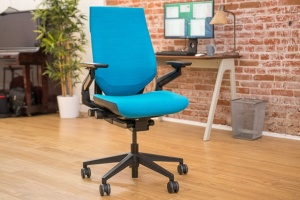chair: (81, 6, 189, 197)
